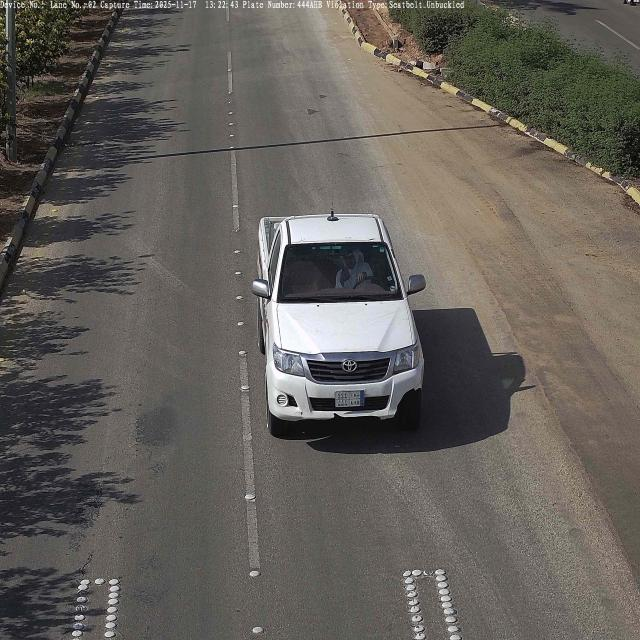person_without_seatbelt: (337, 246, 374, 291)
